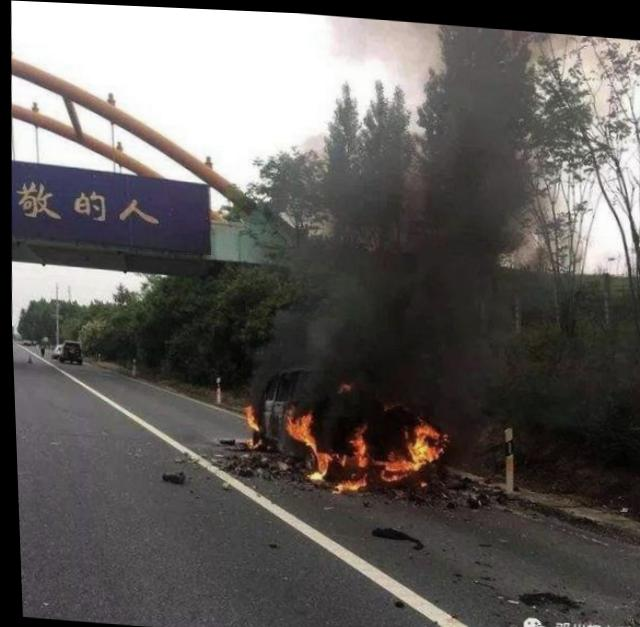fire: (238, 363, 444, 496)
